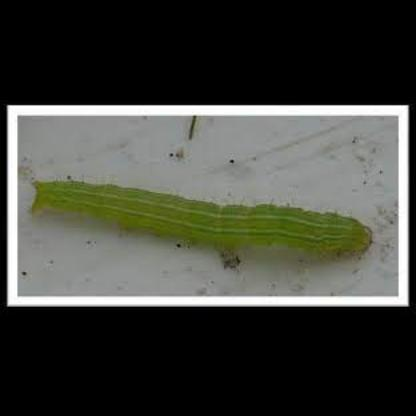oruga: (34, 178, 372, 258)
